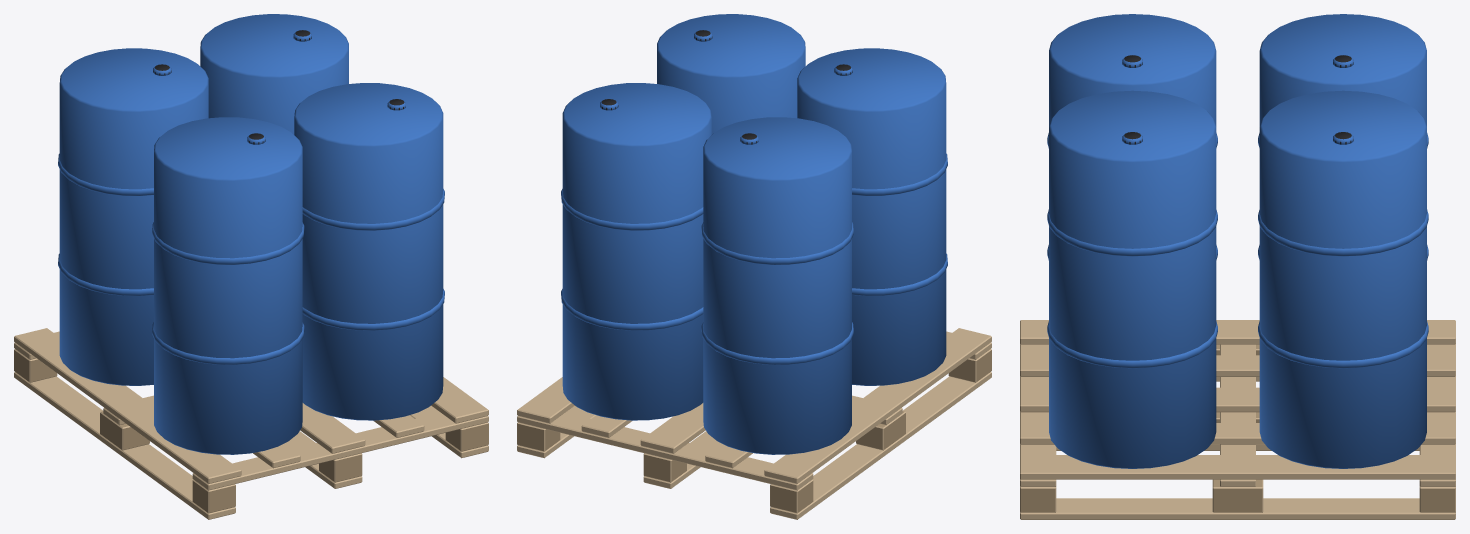
The model's file is stackercrane_pallet_v2.fbx.
3 views of the same model, side by side, from view 1: azimuth 30°, elevation 25°; view 2: azimuth 150°, elevation 25°; view 3: azimuth 270°, elevation 25° (orthographic). The views are drawn at different scales.
Visible parts, largest first — view 1: Load_v2, Deck_v2; view 2: Load_v2, Deck_v2; view 3: Load_v2, Deck_v2.
Part boxes in pixels (bbox=[...]): Load_v2: bbox=[58, 14, 444, 454]; Deck_v2: bbox=[14, 328, 488, 519]; Load_v2: bbox=[561, 14, 947, 454]; Deck_v2: bbox=[517, 328, 991, 519]; Load_v2: bbox=[1047, 14, 1428, 468]; Deck_v2: bbox=[1020, 320, 1455, 519].
Bounding box in the file's own units: 1 × 1.1 × 1.2.
